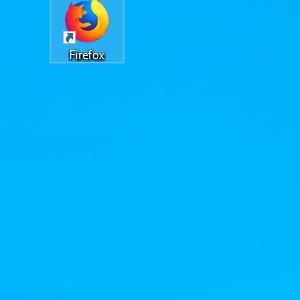firefox: (63, 1, 110, 45)
